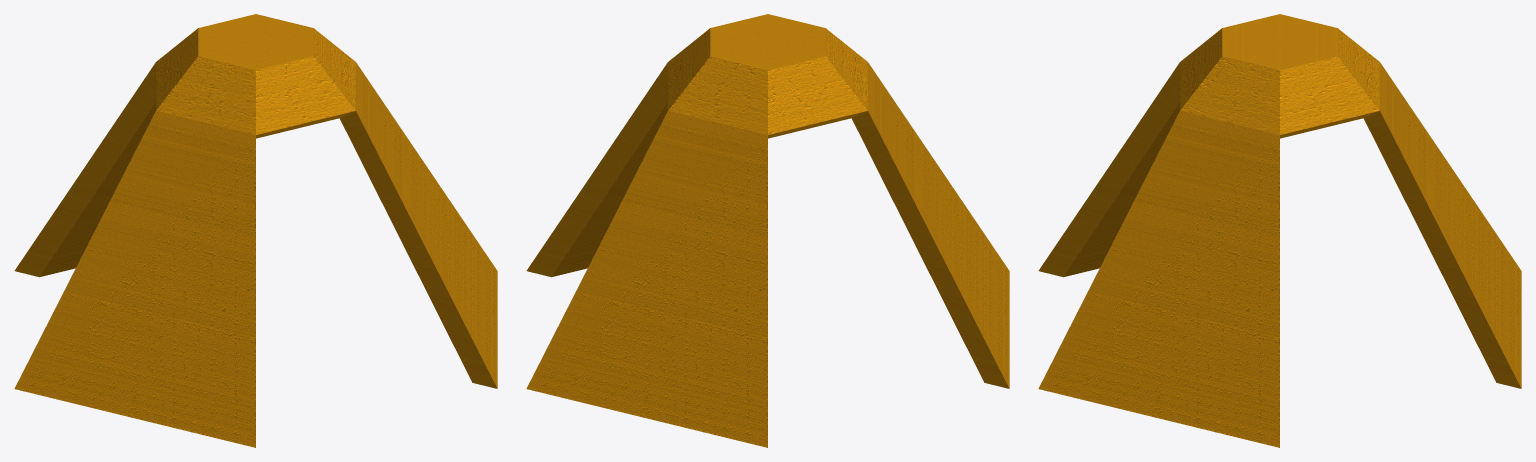
Rendered from cover.fbx.
The picture shows the model from 3 angles, left to right: view 1: azimuth 30°, elevation 25°; view 2: azimuth 150°, elevation 25°; view 3: azimuth 270°, elevation 25°; orthographic projection.
Parts seen in each view (by area): view 1: cover; view 2: cover; view 3: cover.
Part boxes in pixels (x1,y1,x2,y2): cover: (14, 14, 497, 447); cover: (526, 14, 1009, 447); cover: (1038, 14, 1521, 447).
Bounding box in the file's own units: 11.67 × 6.64 × 10.1.
